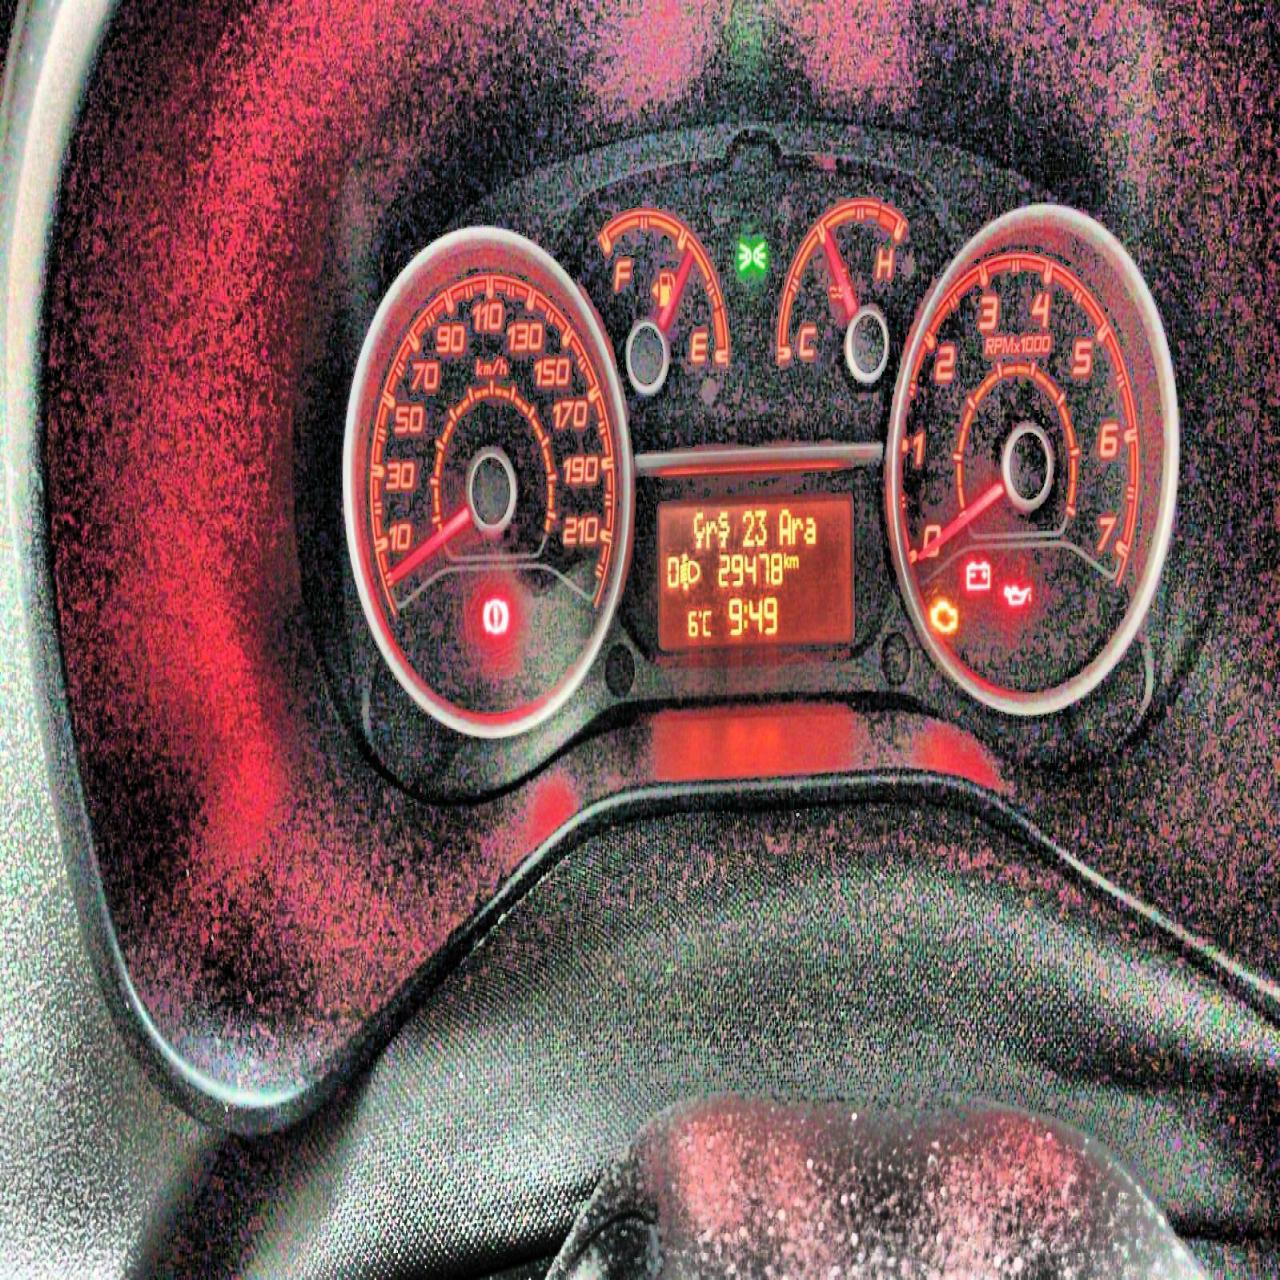0: (666, 552, 679, 590)
2: (741, 508, 754, 547), (717, 552, 729, 587)
3: (754, 508, 767, 544)
4: (749, 595, 762, 632), (743, 553, 756, 585)
6: (687, 608, 697, 638)
7: (757, 550, 769, 585)
8: (770, 551, 782, 584)
9: (727, 594, 742, 636), (764, 594, 777, 635), (730, 551, 743, 585)
X: (716, 508, 730, 547), (778, 505, 791, 544), (693, 506, 703, 550), (703, 517, 715, 549), (803, 516, 816, 544), (791, 513, 802, 543), (702, 610, 712, 636), (788, 552, 798, 570), (742, 601, 748, 629), (783, 549, 788, 570)
odometer: (655, 493, 856, 645)
